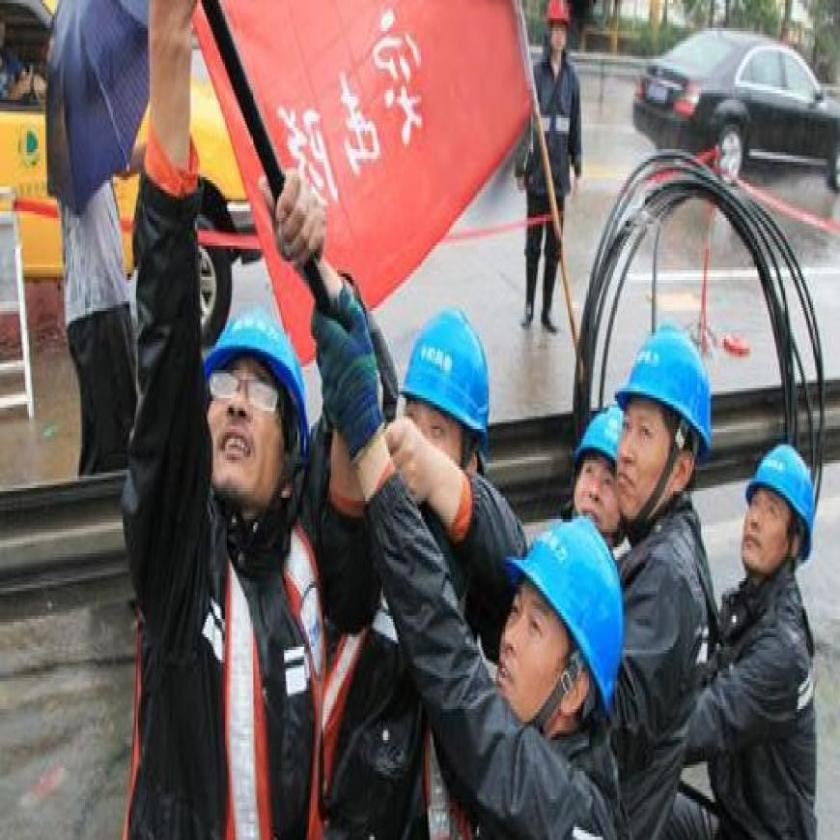Con_casco: (498, 516, 627, 758), (198, 304, 316, 539), (622, 323, 713, 534), (401, 305, 492, 494), (735, 441, 818, 607), (572, 403, 630, 538), (544, 0, 572, 57)
